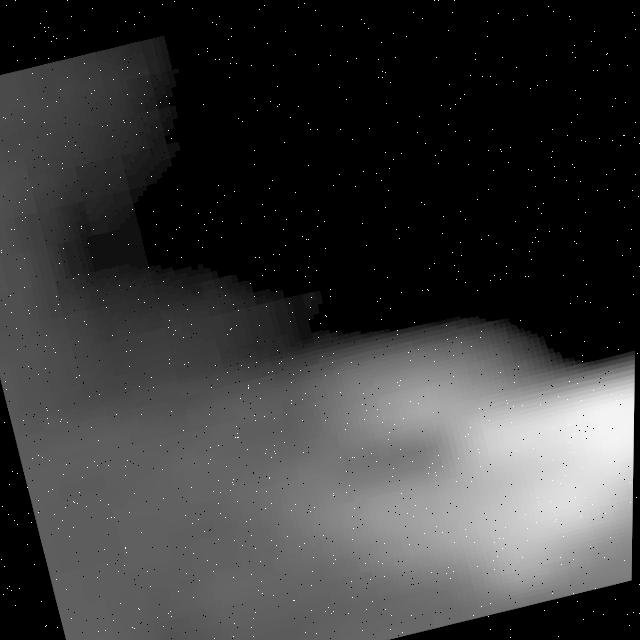person: (201, 289, 638, 636)
